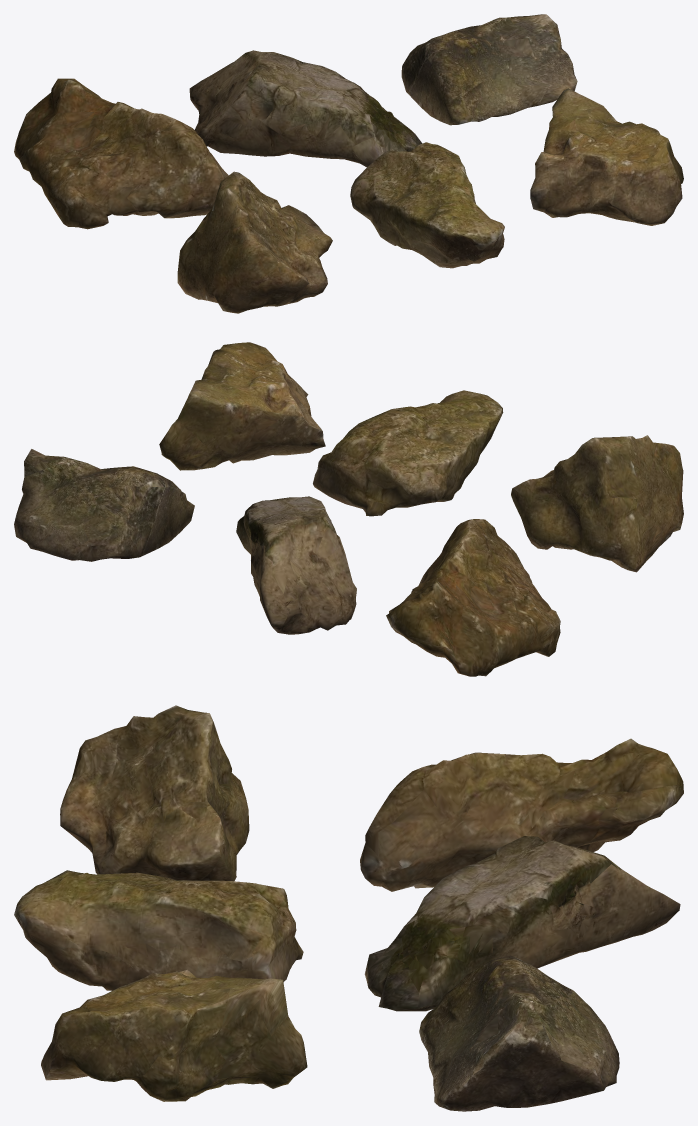
Rendered from rock_moss_set_01.glb.
3 views of the same model, one above another, from view 1: azimuth 30°, elevation 25°; view 2: azimuth 150°, elevation 25°; view 3: azimuth 270°, elevation 25° (orthographic). The views are drawn at different scales.
Parts seen in each view (by area): view 1: Prop; view 2: Prop; view 3: Prop.
Boxes of the visible parts, x1,y1,x2,y2 form: Prop: (14,14,683,313); Prop: (14,342,683,676); Prop: (14,705,683,1111).
Bounding box in the file's own units: 8.01 × 1.77 × 6.94.
1 material, 1 textured.
